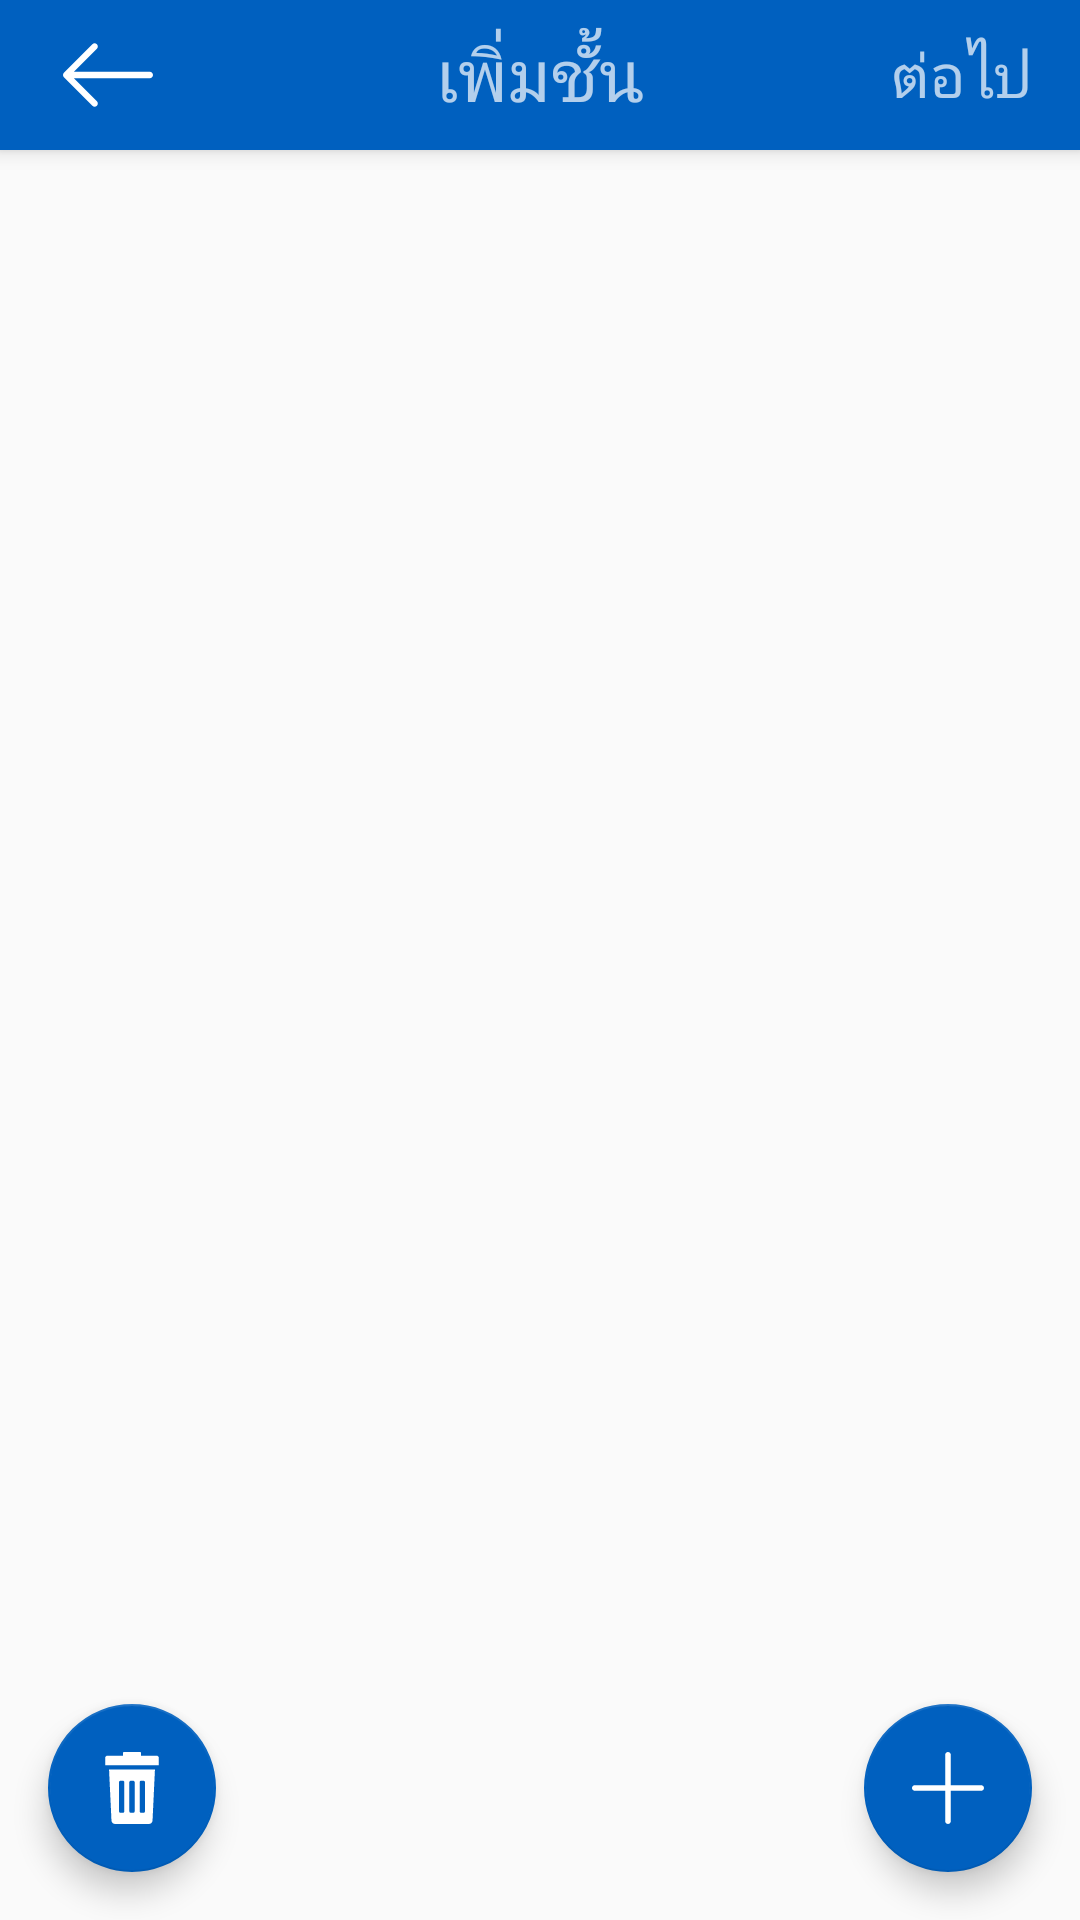

Point at icon controls on the screen. Image size 1080 × 1920, points as point (x, y).
left arrow: point (108, 75)
plus: point (948, 1788)
rubbish bin: point (132, 1788)
